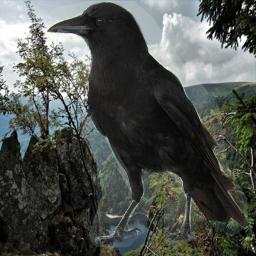Crow: (44, 1, 250, 247)
